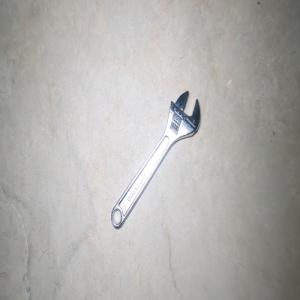Wrench: (110, 90, 200, 228)
